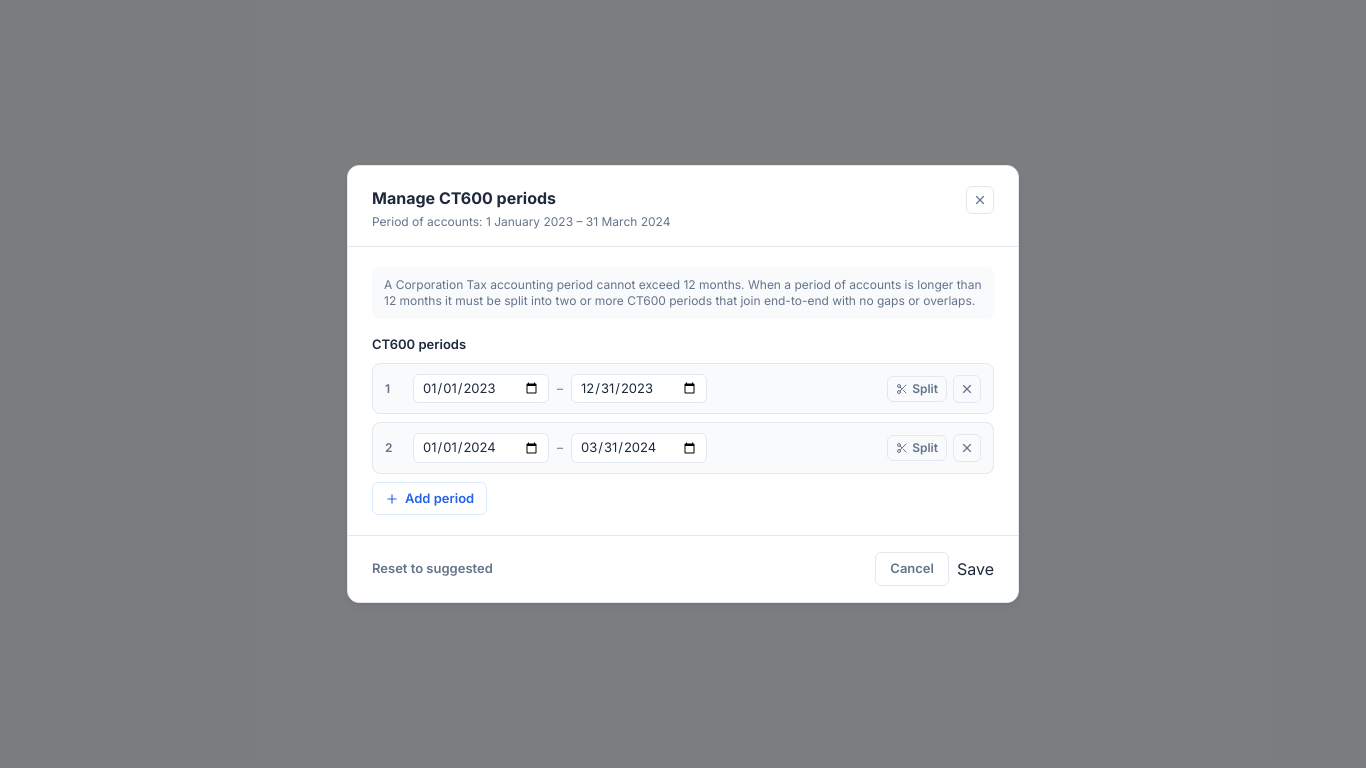
Test: Ct600PeriodEditor › shows the server error message when the response is not OK
Click the button "Save" at (976, 569), box [957,557,994,581]
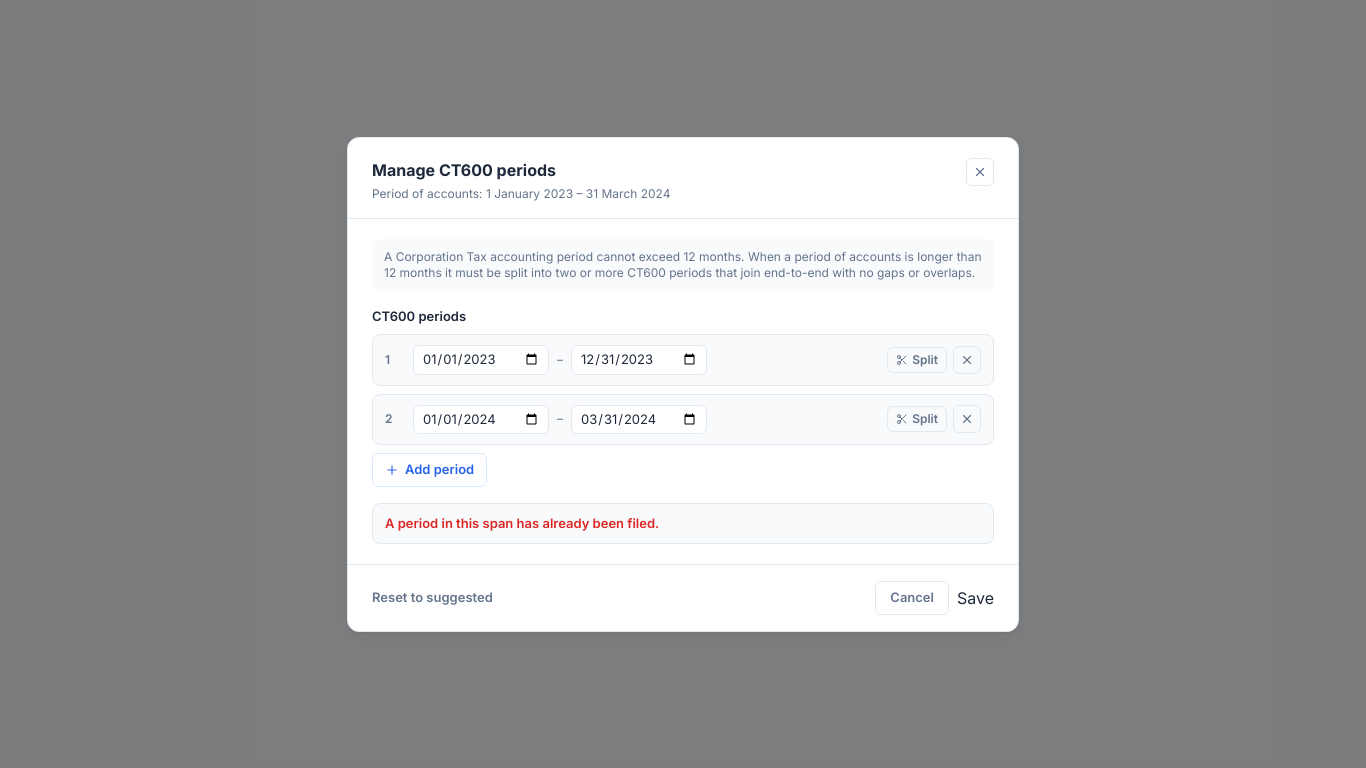
Check: the text "A period in this span has already been filed." is shown, box [372,502,994,544]
